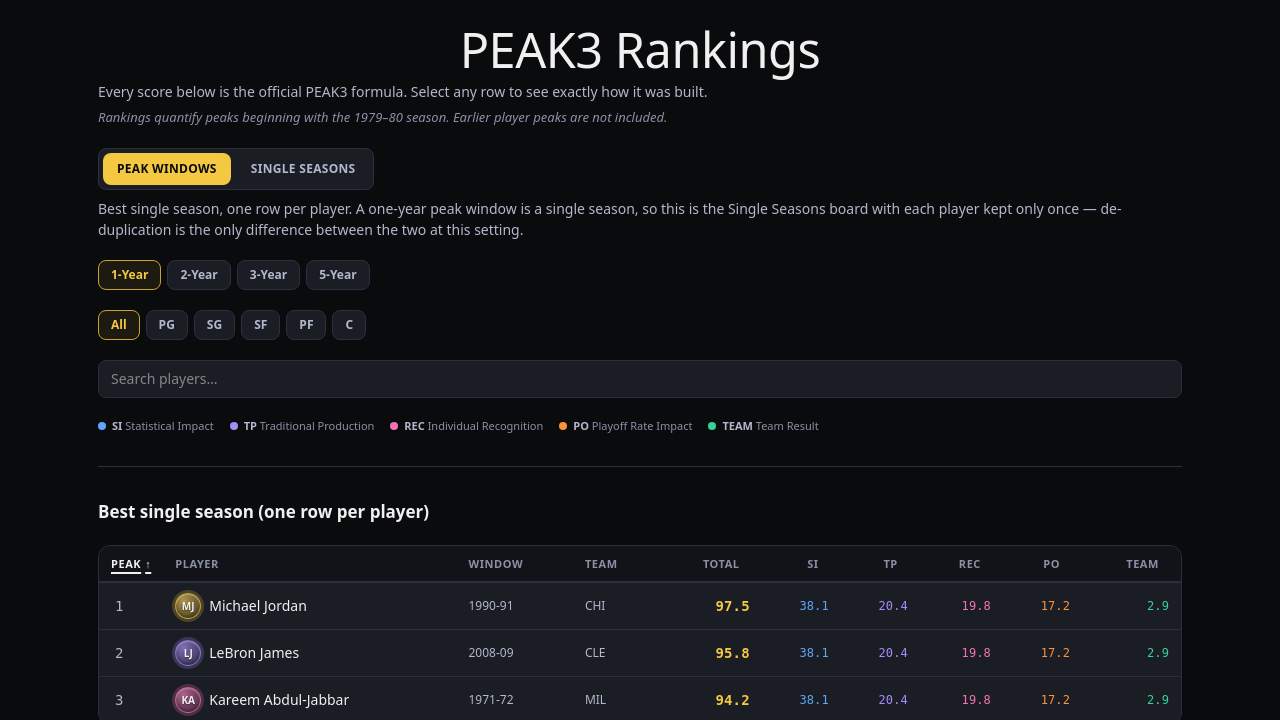
Test: opening the analysis › draws the chart only now, inside the analysis
The width and height of the screenshot is (1280, 720).
What coordinates should you click on to do the following:
click the row with test id "rankings-row" that starts with "Michael Jordan"
I would click on:
 (640, 607)
Its box is [99,583,1181,630].
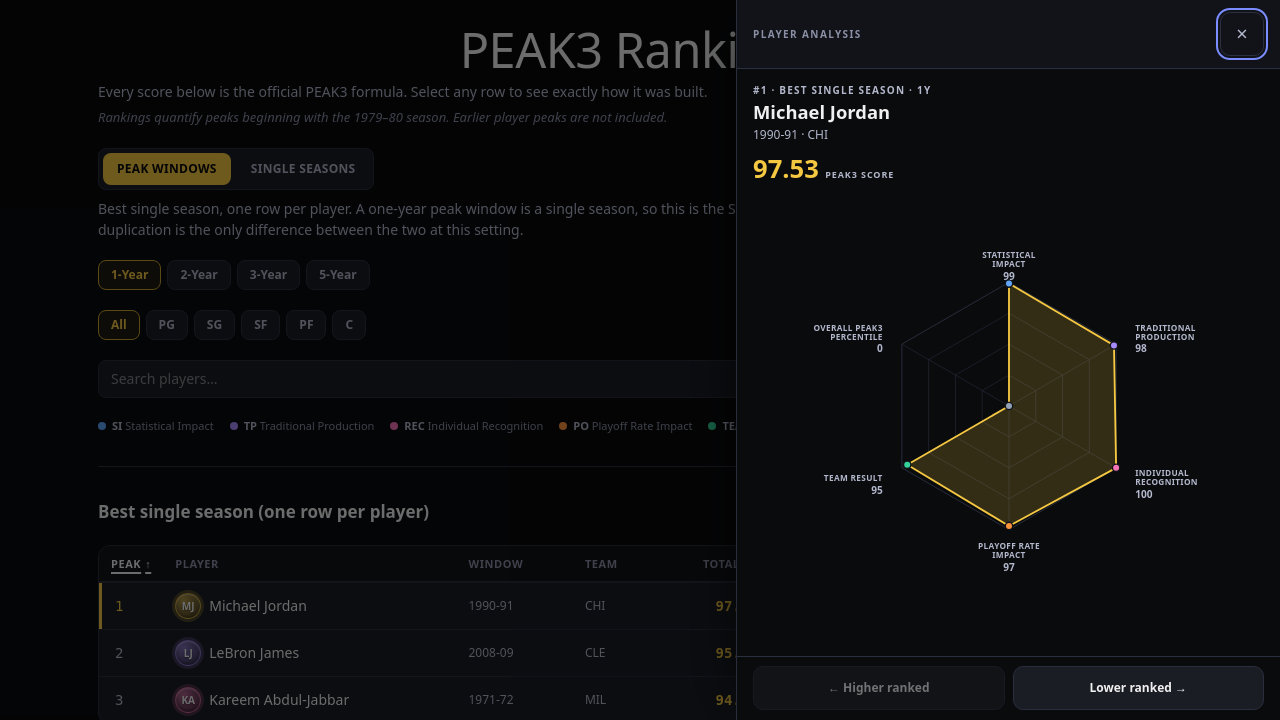
Check: the element with test id "rankings-composite-chart" is shown, box [753,198,1264,592]
